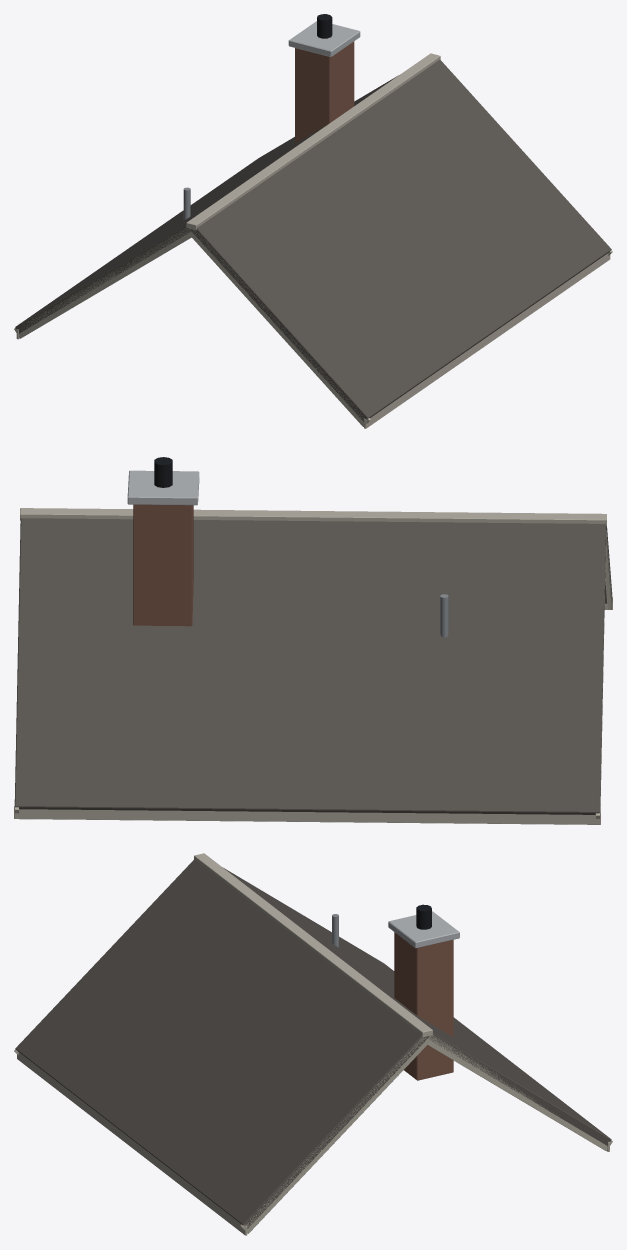
File: house3_roof.glb
The picture shows the model from 3 angles, top to bottom: view 1: azimuth 30°, elevation 25°; view 2: azimuth 150°, elevation 25°; view 3: azimuth 270°, elevation 25°; orthographic projection. The views are drawn at different scales.
Visible parts, largest first — view 1: house3_roof; view 2: house3_roof; view 3: house3_roof.
Boxes of the visible parts, bbox=[...] form: house3_roof: bbox=[14, 14, 612, 428]; house3_roof: bbox=[14, 457, 612, 824]; house3_roof: bbox=[14, 853, 612, 1235].
Size of the model in its own units: 10.3 by 4.21 by 9.94.
